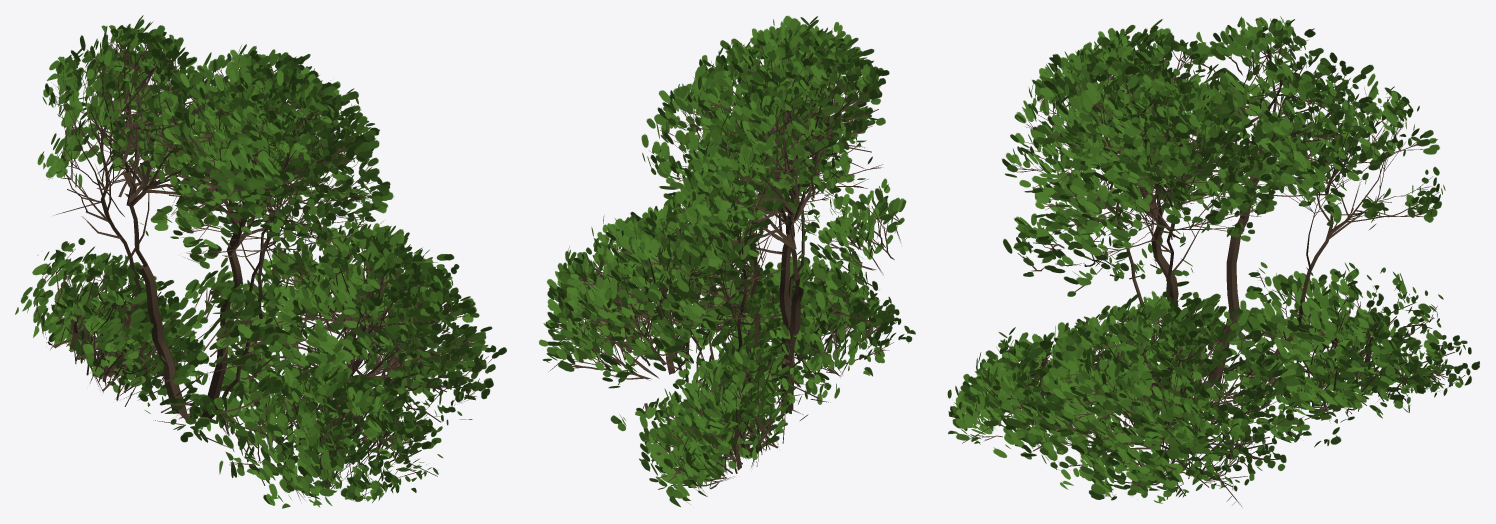
The picture shows the model from 3 angles, left to right: view 1: azimuth 30°, elevation 25°; view 2: azimuth 150°, elevation 25°; view 3: azimuth 270°, elevation 25°; orthographic projection. The views are drawn at different scales.
Parts seen in each view (by area): view 1: oak 01.001_trunk_Mat.001_0.489; view 2: oak 01.001_trunk_Mat.001_0.489; view 3: oak 01.001_trunk_Mat.001_0.489.
Boxes of the visible parts, x1=… form: oak 01.001_trunk_Mat.001_0.489: x1=15, y1=15, x2=506, y2=508; oak 01.001_trunk_Mat.001_0.489: x1=539, y1=15, x2=915, y2=506; oak 01.001_trunk_Mat.001_0.489: x1=947, y1=16, x2=1479, y2=506.
Bounding box in the file's own units: 3.37 × 4.01 × 5.
Materials: 2 (1 with a texture image).
